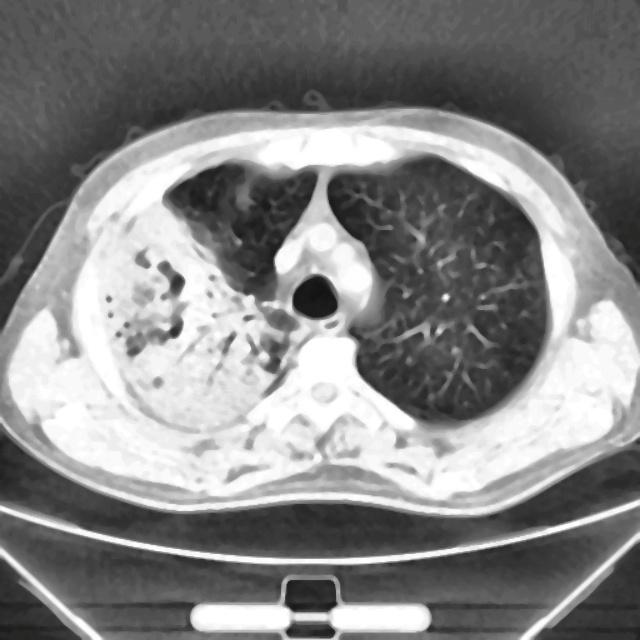covid: (3, 103, 638, 517)
